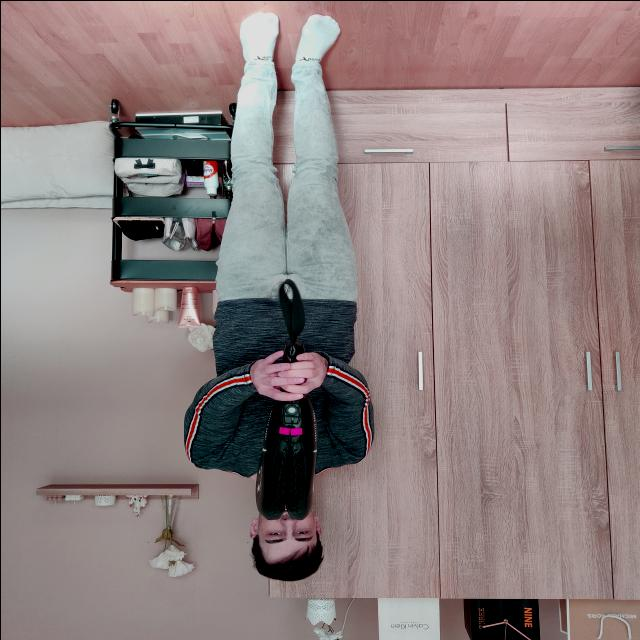paddle: (252, 396, 316, 522)
